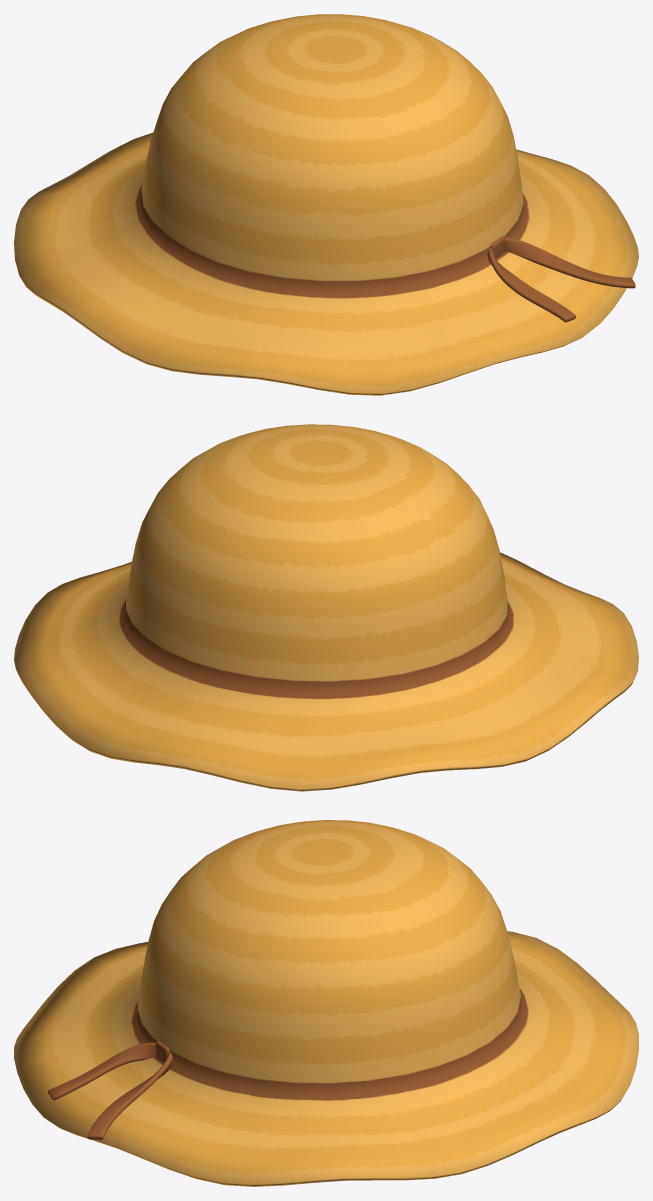
Rendered from Summerhat2.fbx.
3 renders of one model, top to bottom at view 1: azimuth 30°, elevation 25°; view 2: azimuth 150°, elevation 25°; view 3: azimuth 270°, elevation 25°, orthographic.
Parts seen in each view (by area): view 1: Summerhat2; view 2: Summerhat2; view 3: Summerhat2.
Boxes of the visible parts, bbox=[...] form: Summerhat2: bbox=[14, 14, 638, 395]; Summerhat2: bbox=[14, 424, 638, 791]; Summerhat2: bbox=[14, 820, 638, 1186].
Size of the model in its own units: 55.66 by 21.36 by 55.6.
